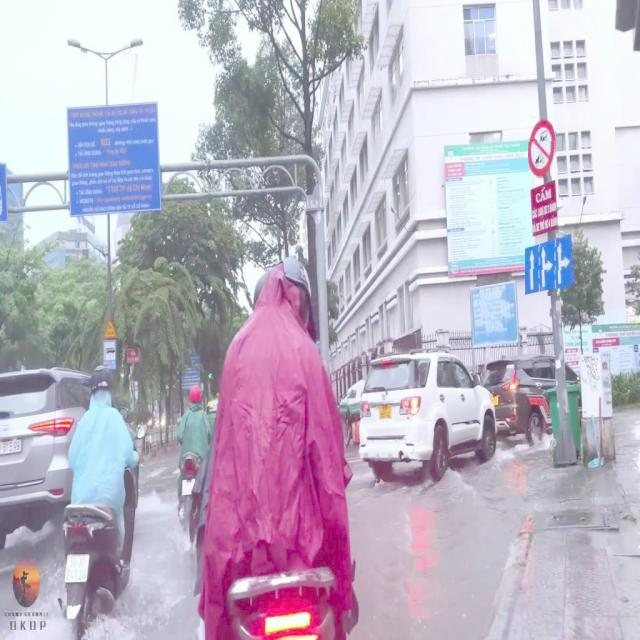cam_cac_loai_xe_3_banh: (528, 120, 556, 178)
di_cham: (102, 317, 116, 338)
huong_di_tren_moi_lan_duong_theo_vach_ke_duong: (525, 235, 574, 296)
khac: (104, 341, 115, 369)
